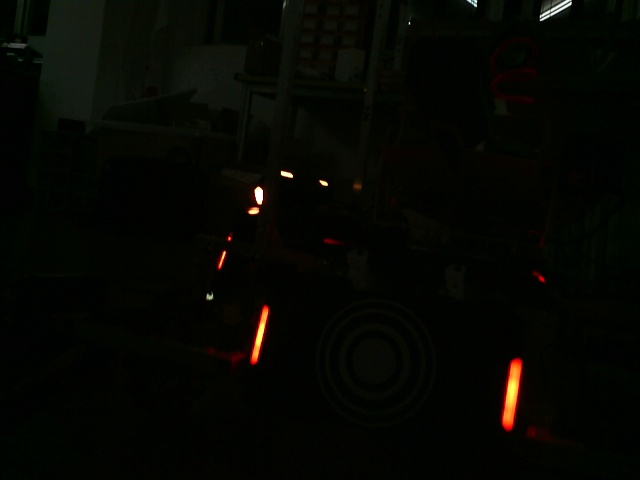lamp: (500, 354, 523, 432), (250, 303, 270, 367)
